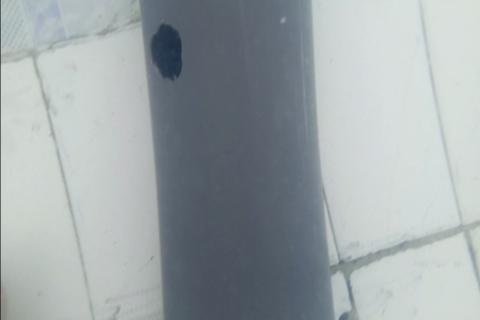kebocoran: (148, 23, 184, 82)
